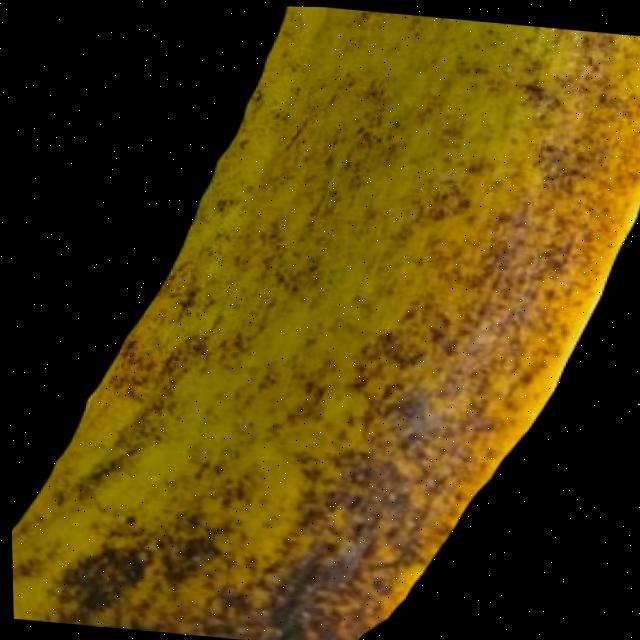mite: (348, 121, 640, 640), (76, 542, 147, 616), (155, 528, 223, 588), (116, 552, 145, 585), (214, 193, 229, 212), (119, 511, 138, 526)
spots: (5, 0, 640, 640)
